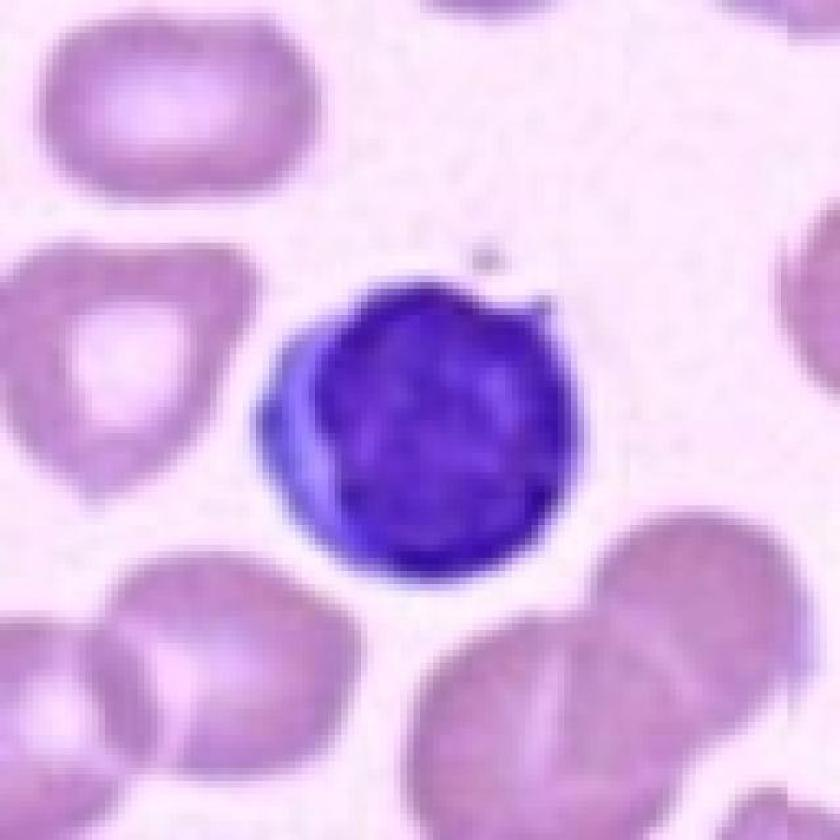lymphocyte: (247, 246, 602, 614)
